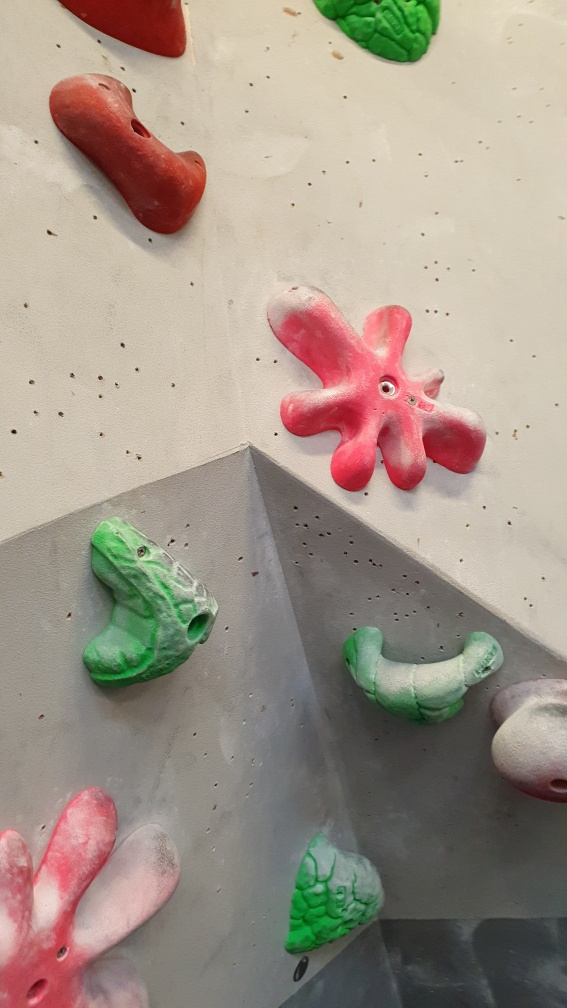Hand Start: (287, 951, 316, 981)
Jug: (340, 614, 510, 728), (280, 825, 396, 961)
Octopus Pinch: (256, 280, 488, 497), (1, 785, 185, 1006)
Sloper: (485, 683, 567, 809)
